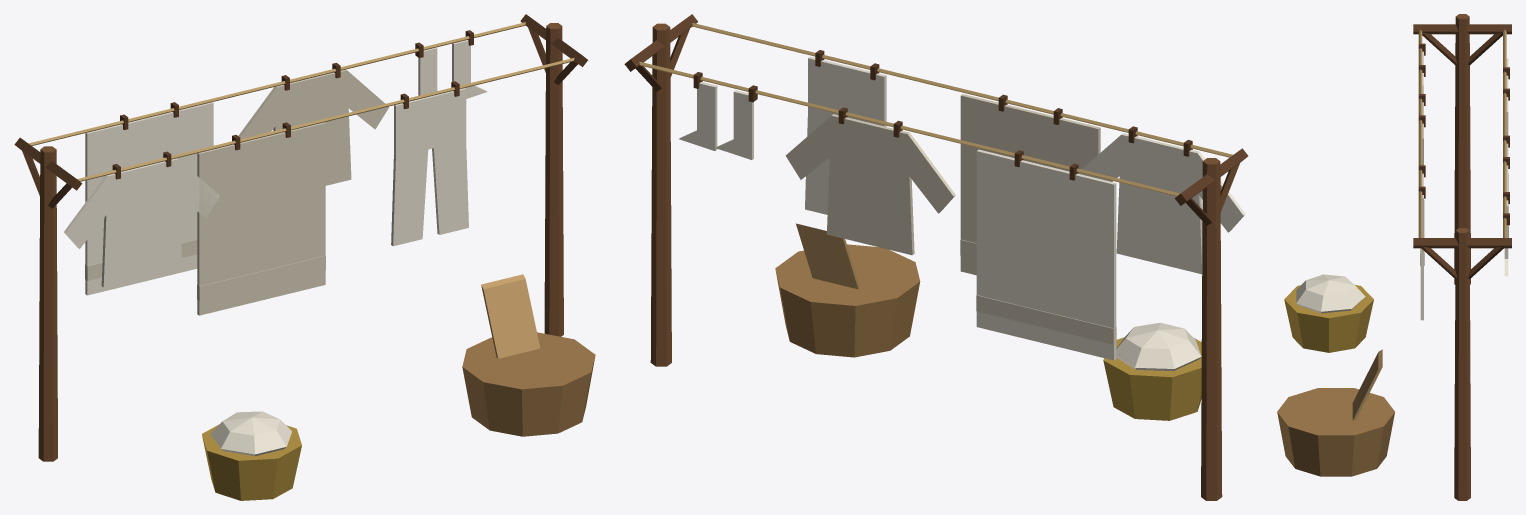
Rendered from annex_clothesline.glb.
3 views of the same model, side by side, from view 1: azimuth 30°, elevation 25°; view 2: azimuth 150°, elevation 25°; view 3: azimuth 270°, elevation 25° (orthographic). The views are drawn at different scales.
Visible parts, largest first — view 1: annex_clothesline; view 2: annex_clothesline; view 3: annex_clothesline.
Part boxes in pixels (x1,y1,x2,y2): annex_clothesline: (14,14,595,500); annex_clothesline: (624,14,1248,500); annex_clothesline: (1277,14,1511,500).
Size of the model in its own units: 3.7 by 2.1 by 1.67.
